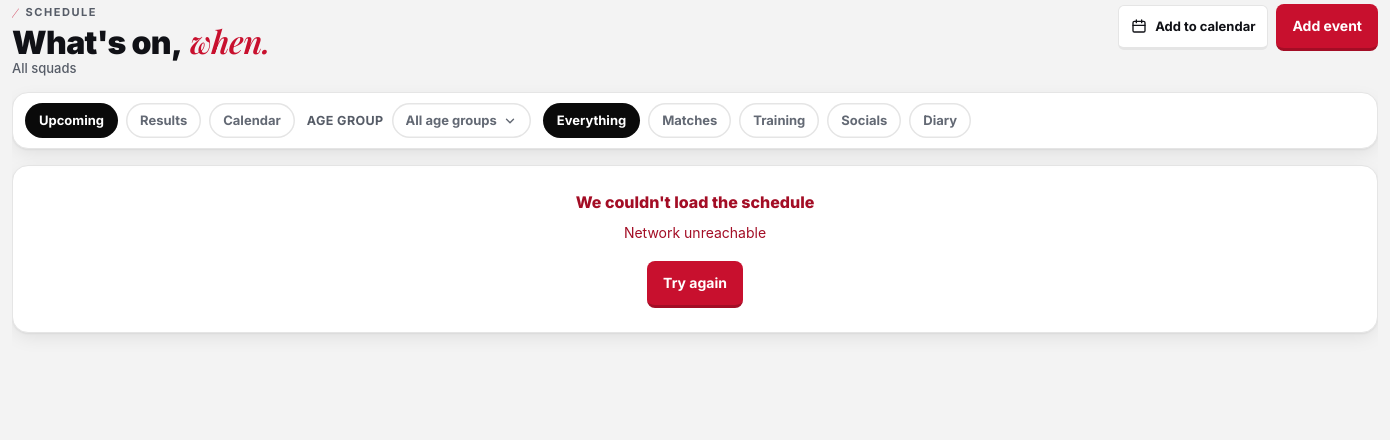
Test case: Schedule — loading, empty and error states › renders a failed events query in an alert region, with a retry
Check: the text "Network unreachable" is shown, box [624,224,766,241]
Click the button "Try again" at [695, 284], box [647,261,743,308]
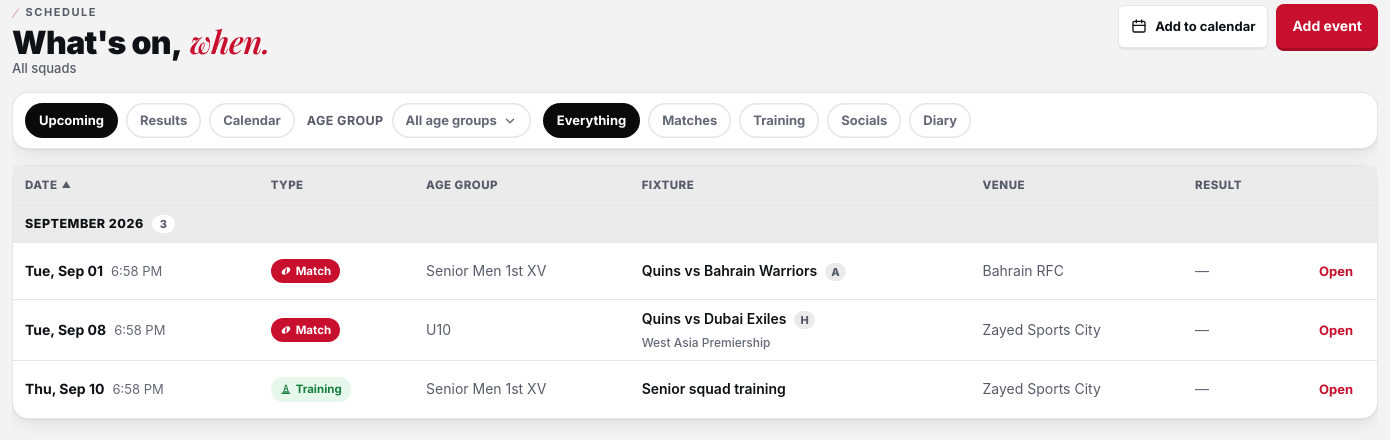
Check: the text "Quins vs Dubai Exiles" is shown, box [642,310,786,328]
Check: the message "We couldn't load the schedule Network unreachable Try again" is gone
